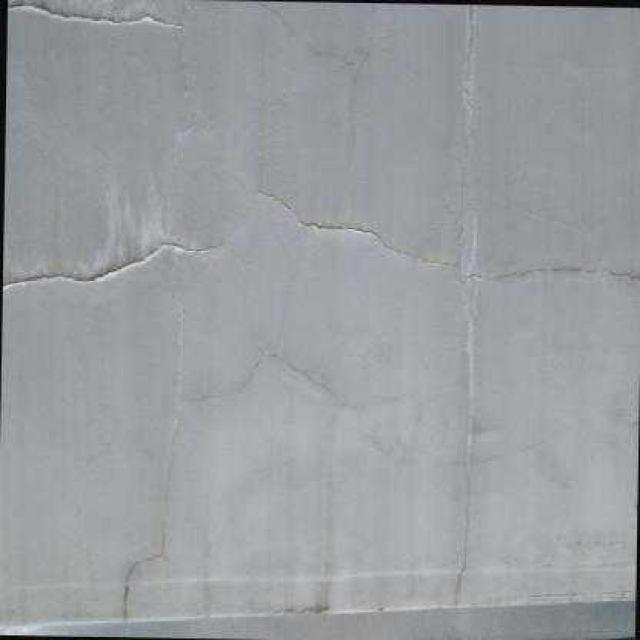D00: (262, 2, 640, 597), (0, 238, 201, 292), (5, 0, 178, 34)
